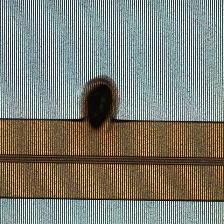PARTICLE: (77, 74, 121, 138)
